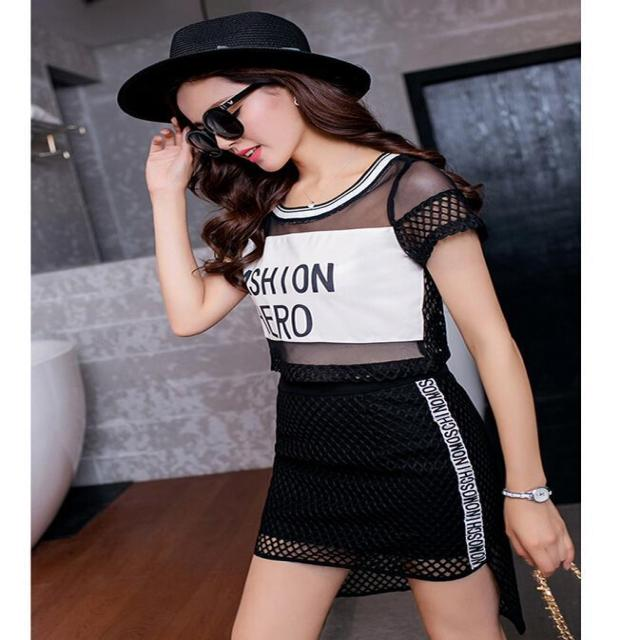short sleeve top: (243, 154, 487, 382)
skirt: (255, 362, 525, 626)
